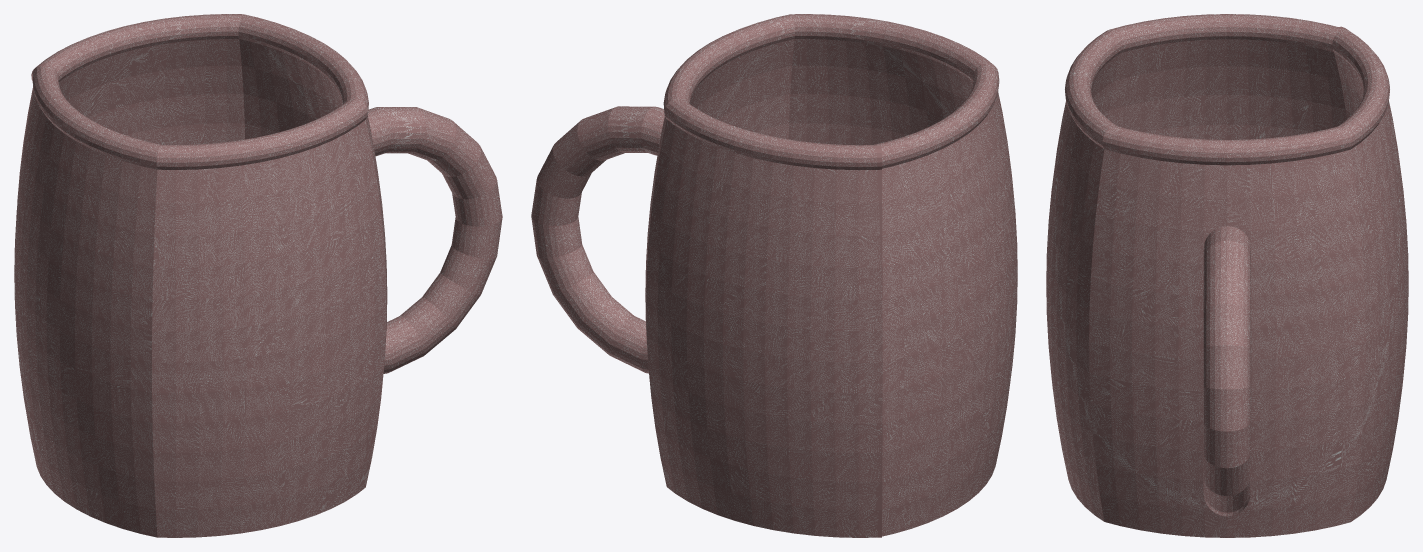
The picture shows the model from 3 angles, left to right: view 1: azimuth 30°, elevation 25°; view 2: azimuth 150°, elevation 25°; view 3: azimuth 270°, elevation 25°; orthographic projection.
Parts seen in each view (by area): view 1: mesh1_mesh1-geometry, mesh3_mesh3-geometry; view 2: mesh1_mesh1-geometry, mesh3_mesh3-geometry; view 3: mesh1_mesh1-geometry, mesh3_mesh3-geometry.
Part boxes in pixels (box(x1,y1,x2,y2)): mesh1_mesh1-geometry: box(14, 14, 387, 537); mesh3_mesh3-geometry: box(368, 107, 502, 373); mesh1_mesh1-geometry: box(645, 14, 1017, 537); mesh3_mesh3-geometry: box(531, 106, 664, 373); mesh1_mesh1-geometry: box(1046, 14, 1408, 537); mesh3_mesh3-geometry: box(1203, 226, 1250, 516).
Size of the model in its own units: 0.6843 by 0.5591 by 0.4682.
